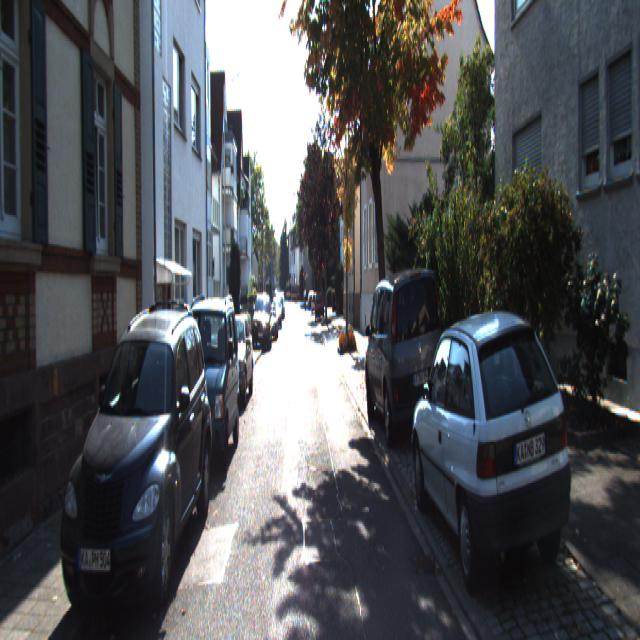Car: (408, 300, 592, 616), (50, 296, 214, 638), (361, 264, 448, 455), (173, 296, 240, 482), (208, 315, 255, 412), (251, 290, 272, 352)
